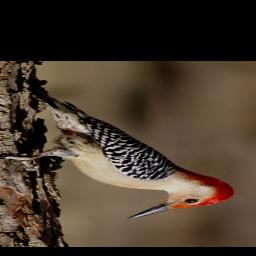Woodpecker: (0, 85, 241, 220)
